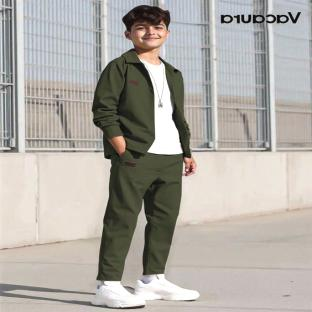Human: (92, 5, 199, 307)
